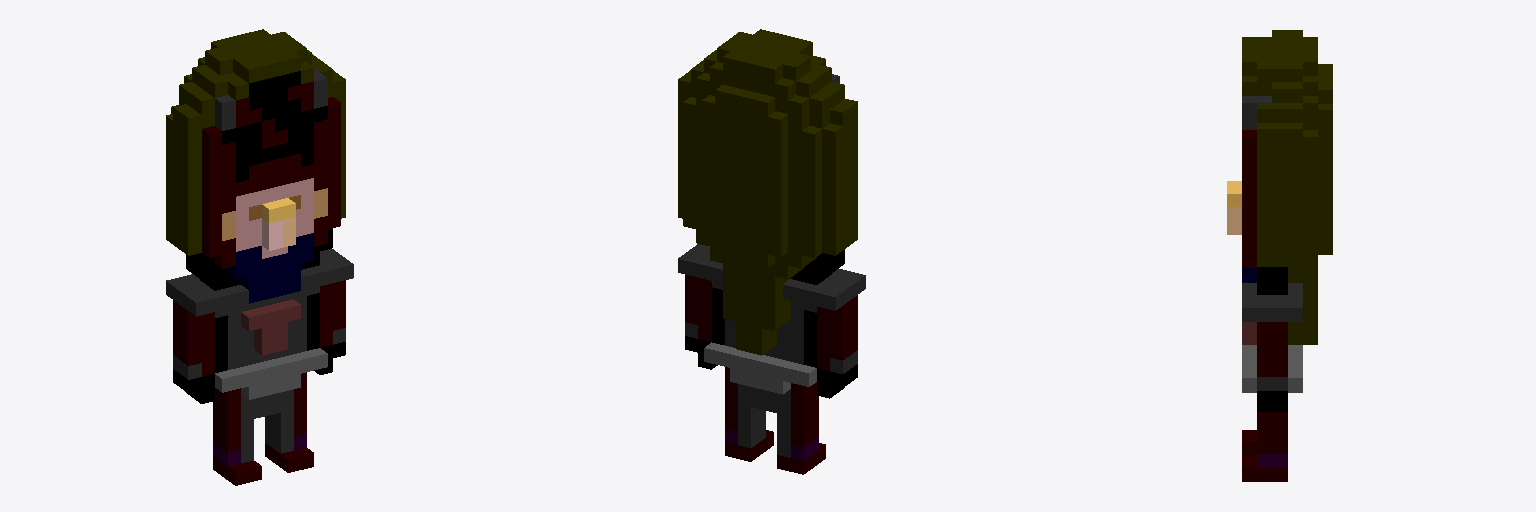
3 renders of one model, left to right at view 1: azimuth 30°, elevation 25°; view 2: azimuth 150°, elevation 25°; view 3: azimuth 270°, elevation 25°, orthographic.
Size of the model in its own units: 12 by 30 by 7.
Materials: 1 (1 with a texture image).